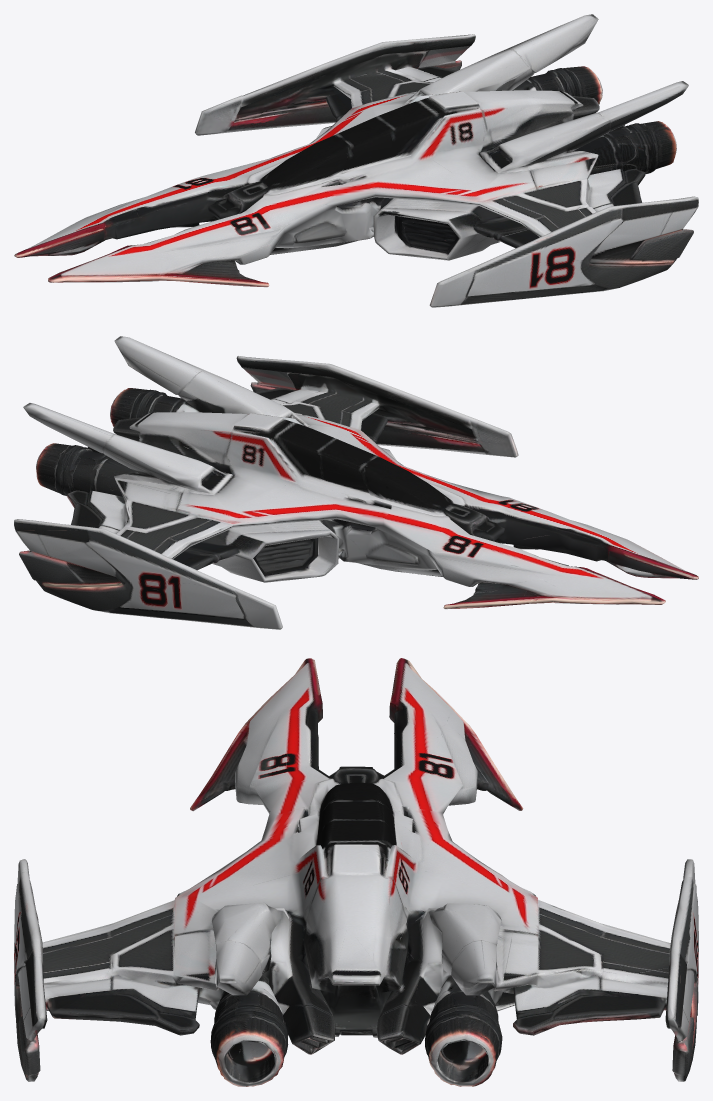
Rendered from racer_optimized.glb.
3 views of the same model, one above another, from view 1: azimuth 30°, elevation 25°; view 2: azimuth 150°, elevation 25°; view 3: azimuth 270°, elevation 25° (orthographic). The views are drawn at different scales.
Size of the model in its own units: 1.9 by 0.3605 by 1.3.
1 material, 1 textured.
